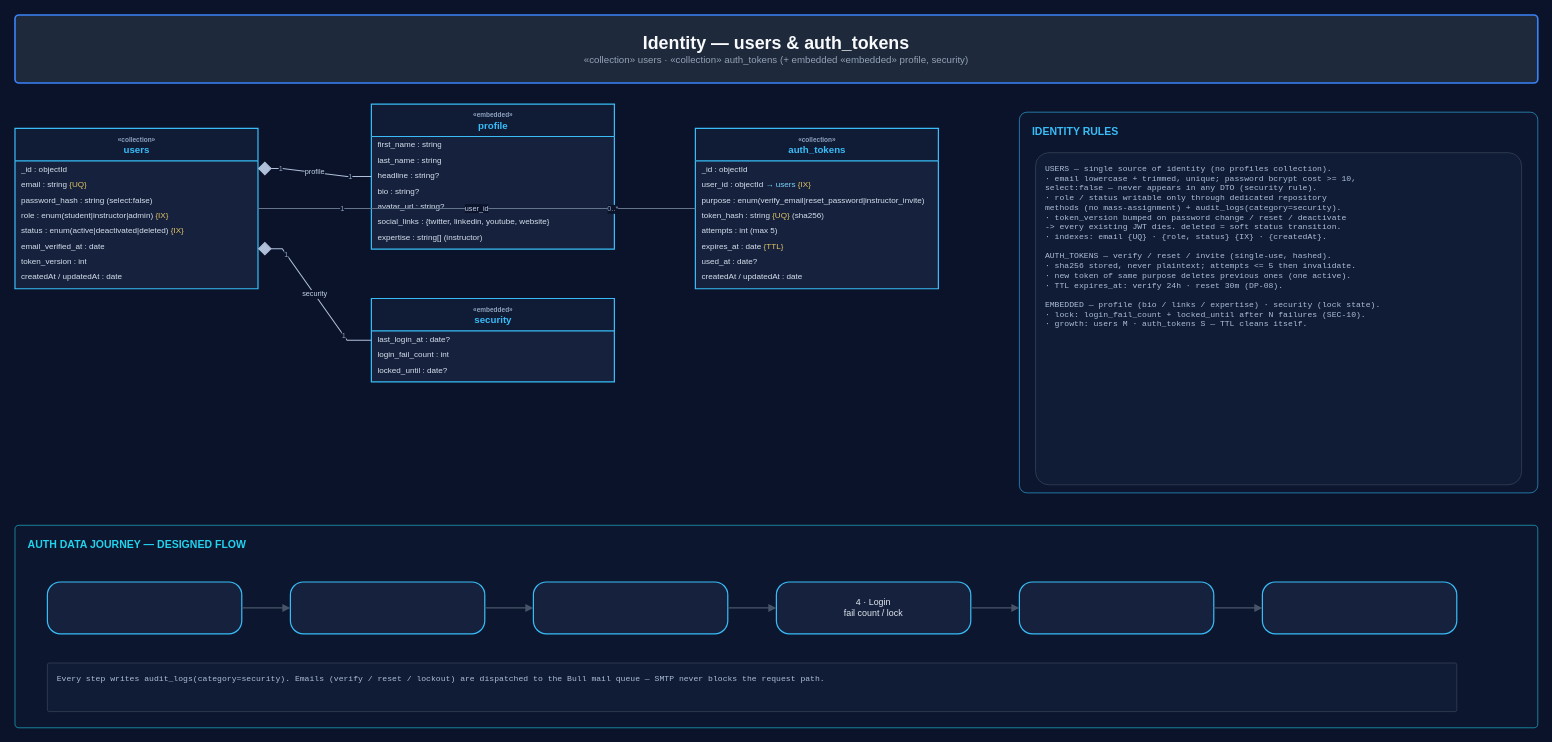
Some shapes in this 1552 by 742 pixel diagram are drawn without their labels. Each missing label, with the centre of its shape:
"1 · Register users + bcrypt hash" belongs at pixel 144 607.
"2 · auth_tokens verify 24h {TTL}" belongs at pixel 387 607.
"3 · Verify email email_verified_at set" belongs at pixel 630 607.
"5 · JWT issued token_version bound" belongs at pixel 1116 607.
"6 · Session kill token_version bump" belongs at pixel 1359 607.
